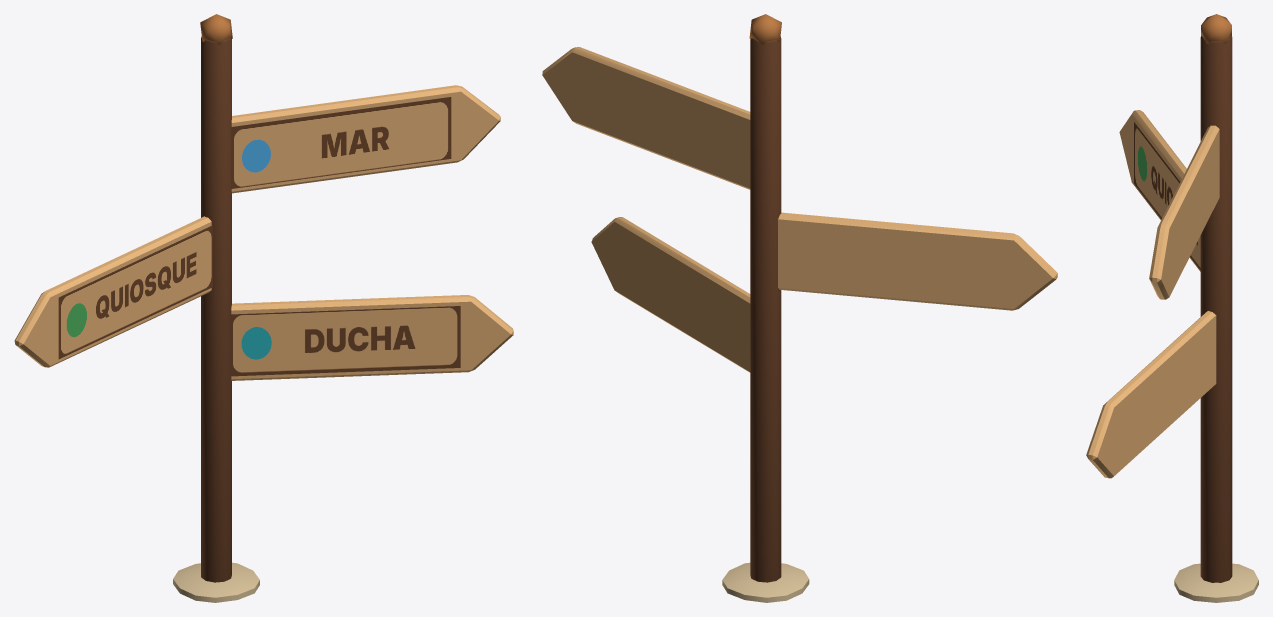
Rendered from placa_praia_direcao.glb.
3 renders of one model, left to right at view 1: azimuth 30°, elevation 25°; view 2: azimuth 150°, elevation 25°; view 3: azimuth 270°, elevation 25°, orthographic.
Parts seen in each view (by area): view 1: placa_praia_direcao; view 2: placa_praia_direcao; view 3: placa_praia_direcao.
Part boxes in pixels (<box>): placa_praia_direcao: <box>14,14,513,602</box>; placa_praia_direcao: <box>542,14,1057,602</box>; placa_praia_direcao: <box>1086,14,1258,602</box>.
Size of the model in its own units: 2.36 by 2.6 by 0.7062.
2 materials, 2 textured.
